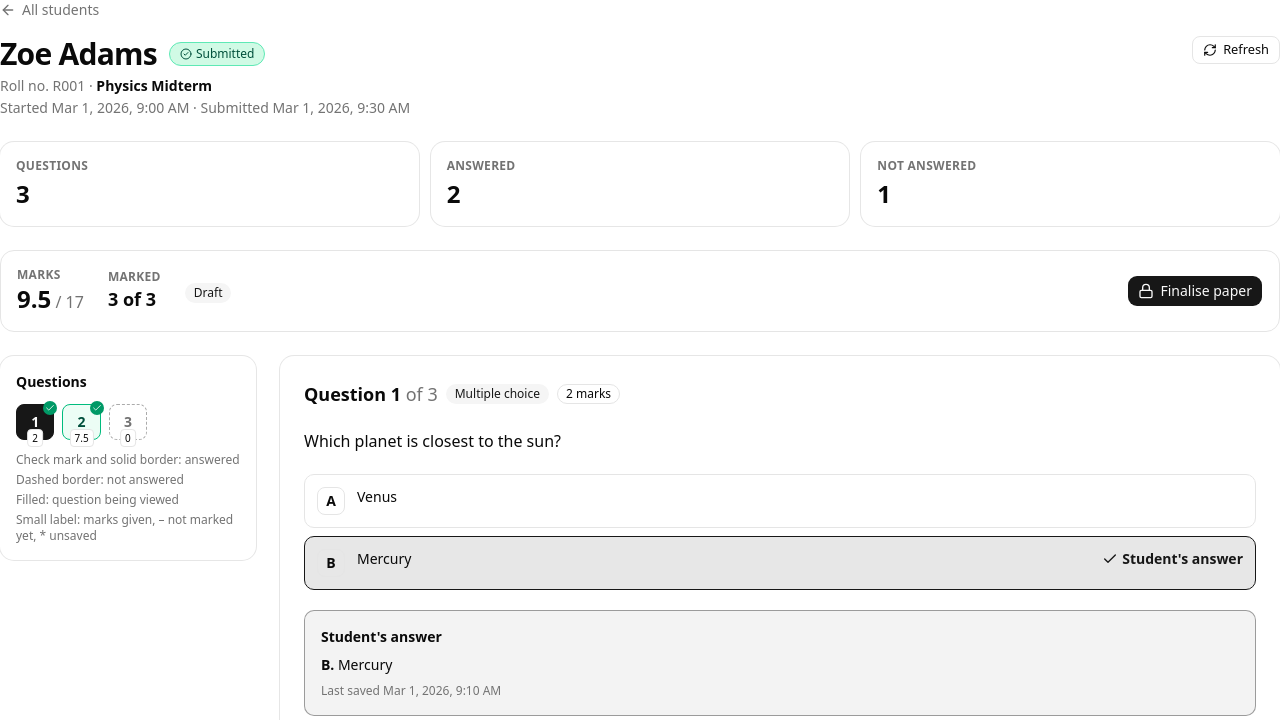
Scenario: finalising and reopening a paper › keeps the dialog open and says why when the server refuses
This screenshot has width=1280, height=720.
Expected: the element named "Paper marks" is shown, [17,267,232,315]
Click the button "Finalise paper". click: [1195, 291]
box: [1127,275,1263,307]
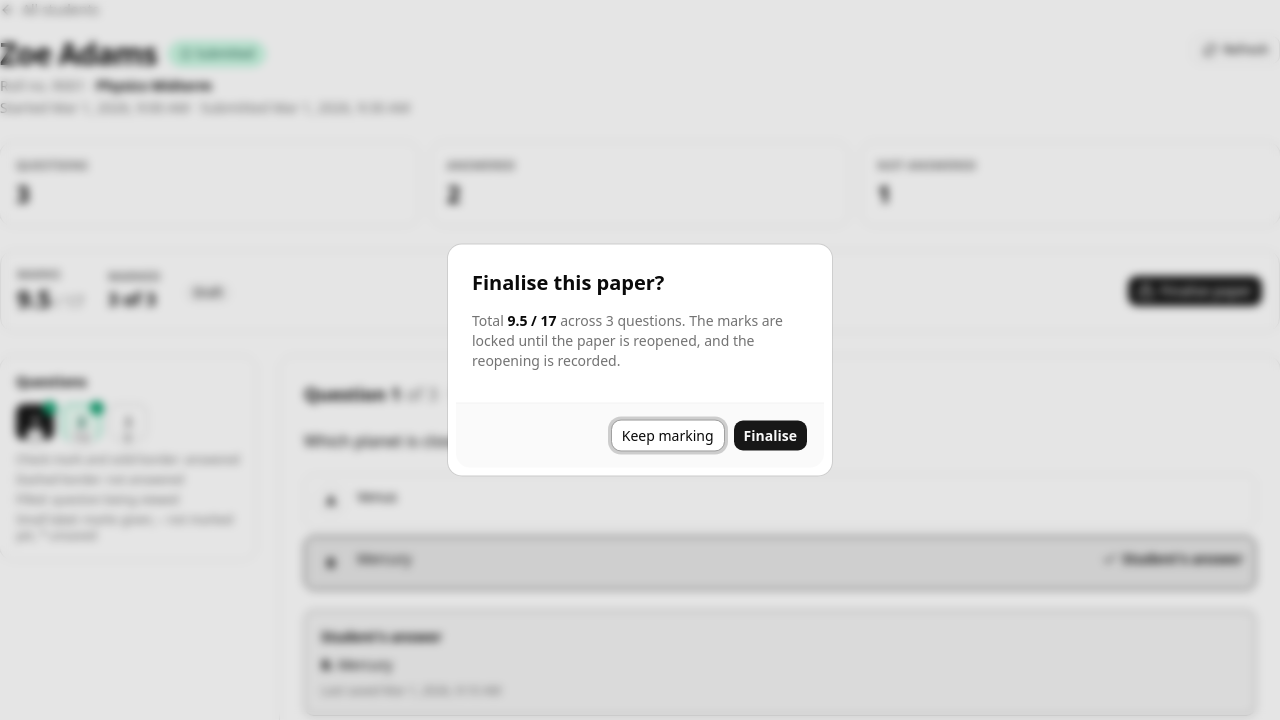
Click the button "Finalise". click: [770, 436]
box: [733,420,808,452]
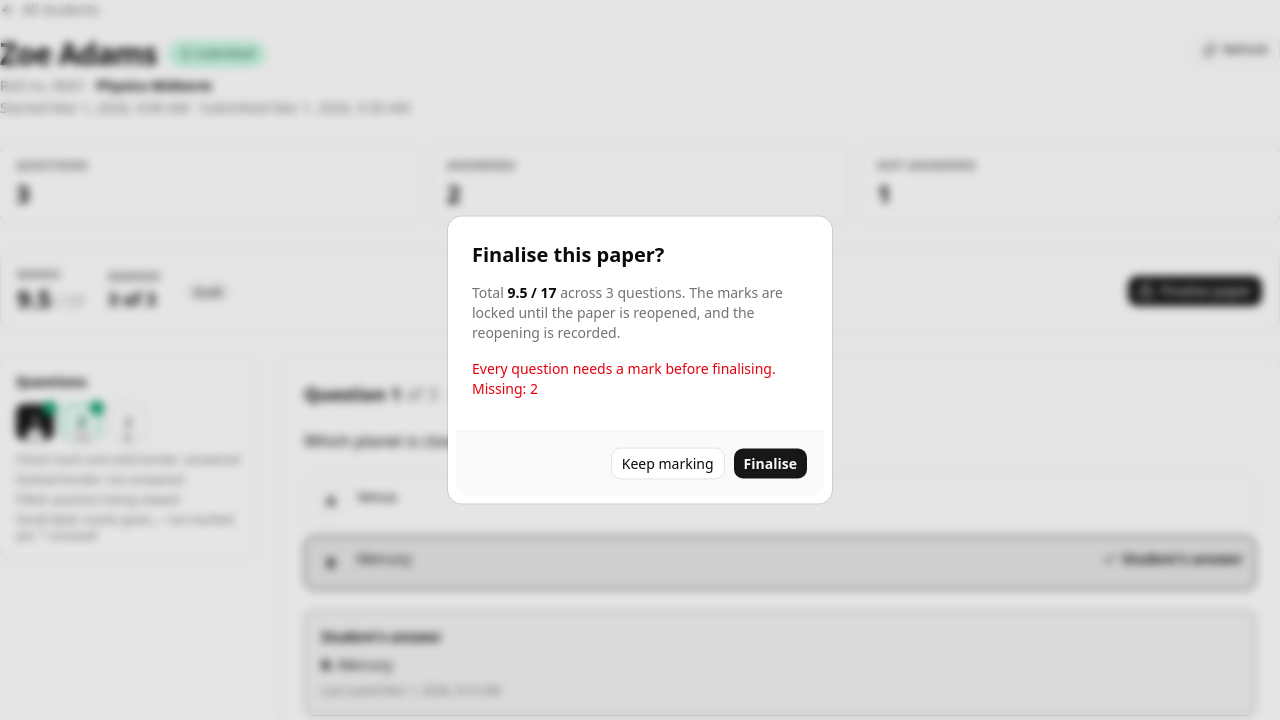
Expected: the icon "Draft" is shown, [185,283,232,303]
Expected: the message shows "Missing: 2", [472,358,776,398]
